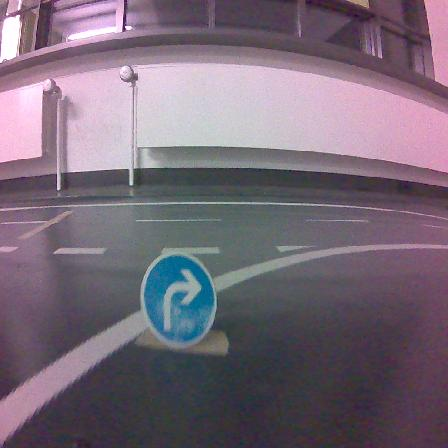RIGHT_TURN: (140, 253, 216, 348)
